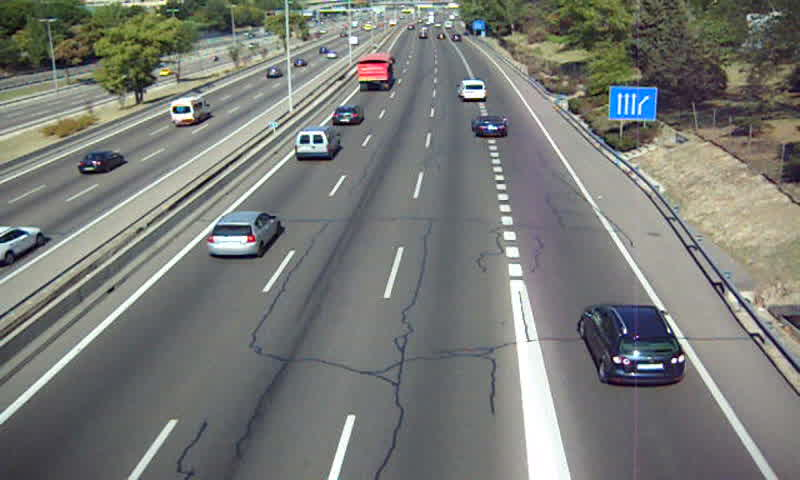car: (578, 302, 684, 383), (205, 211, 282, 256), (473, 115, 510, 139), (331, 104, 364, 125)
truck: (356, 53, 396, 89)
van: (293, 127, 338, 161), (457, 80, 488, 102)
